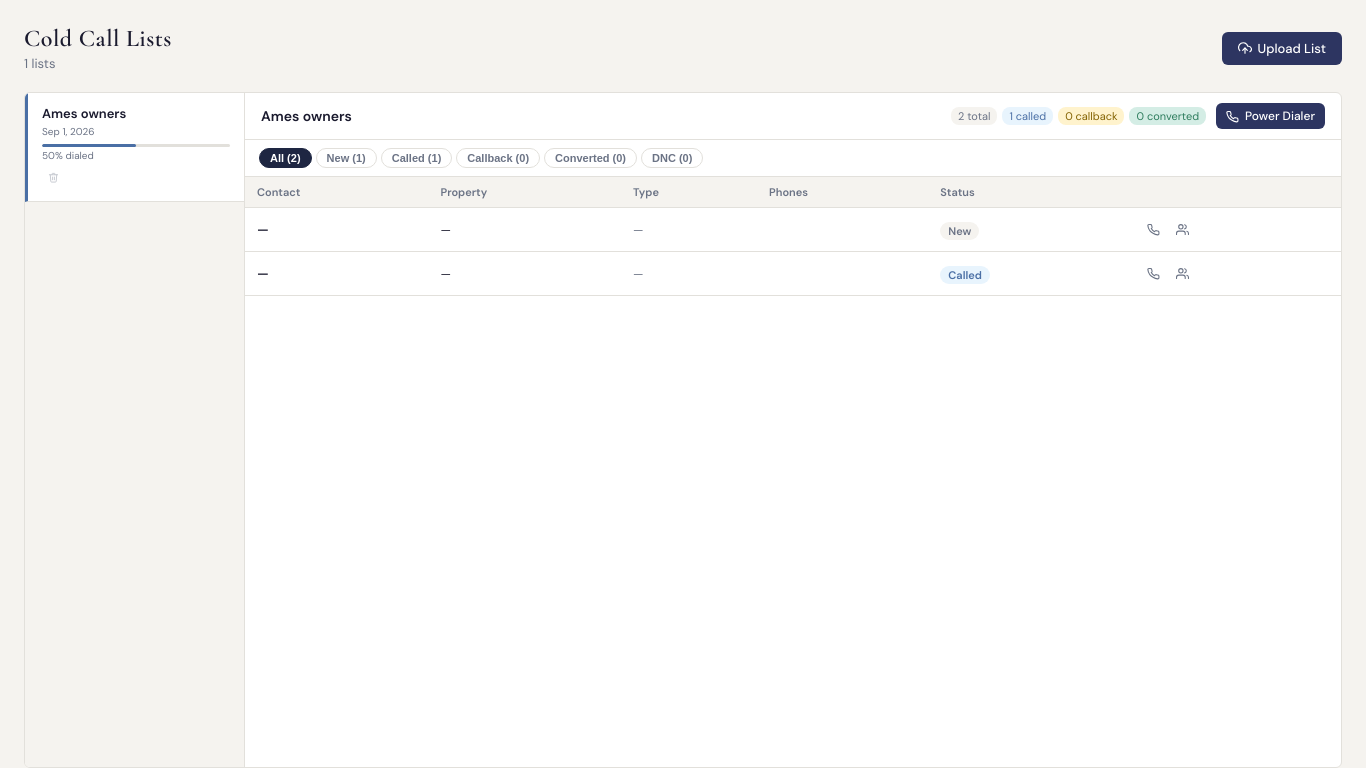
Scenario: Cold call list delete › asks first, naming the list and how many leads go with it
Click the button named "Delete list Ames owners": (54, 178) [42,166,65,189]
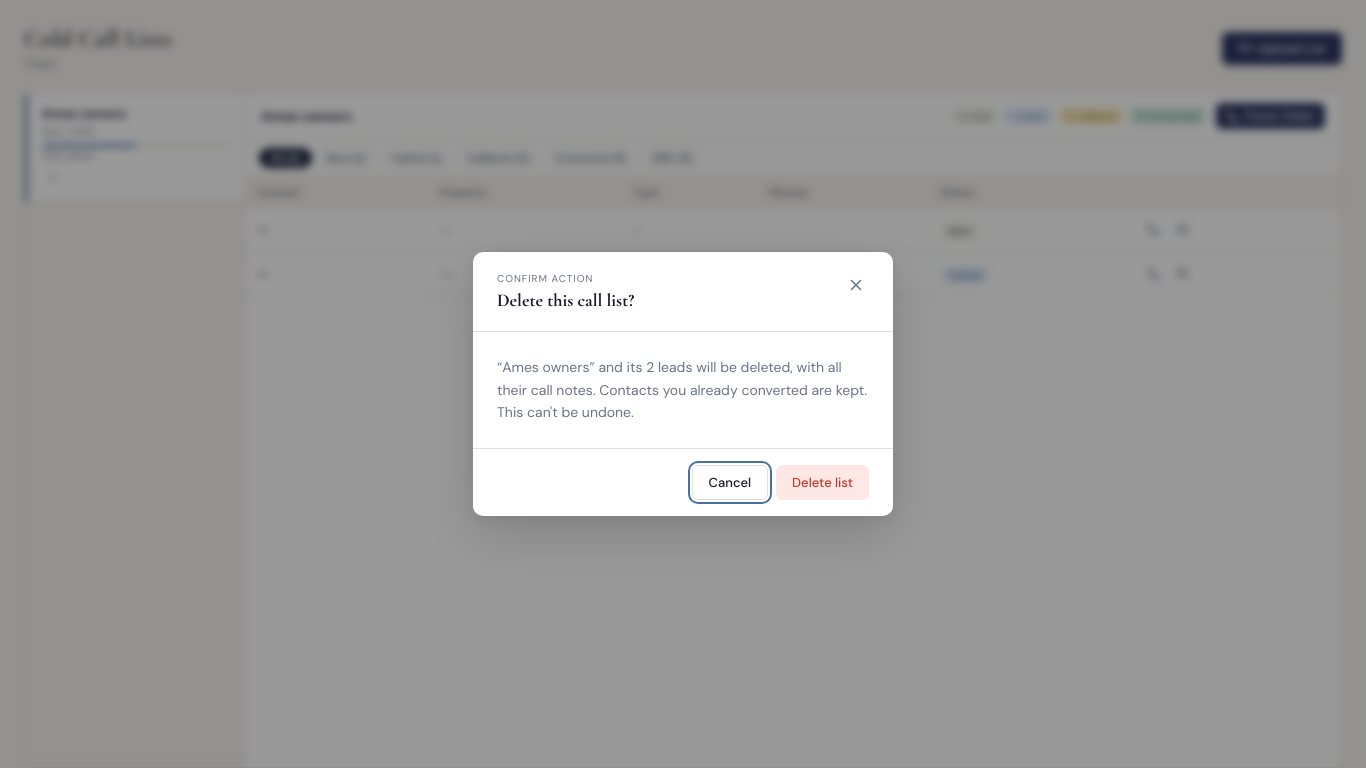
Expected: the dialog "Delete this call list?" shows "“Ames owners” and its 2 leads will be deleted", [497,358,867,421]
Click the button "Cancel": (730, 482) [692,465,768,500]
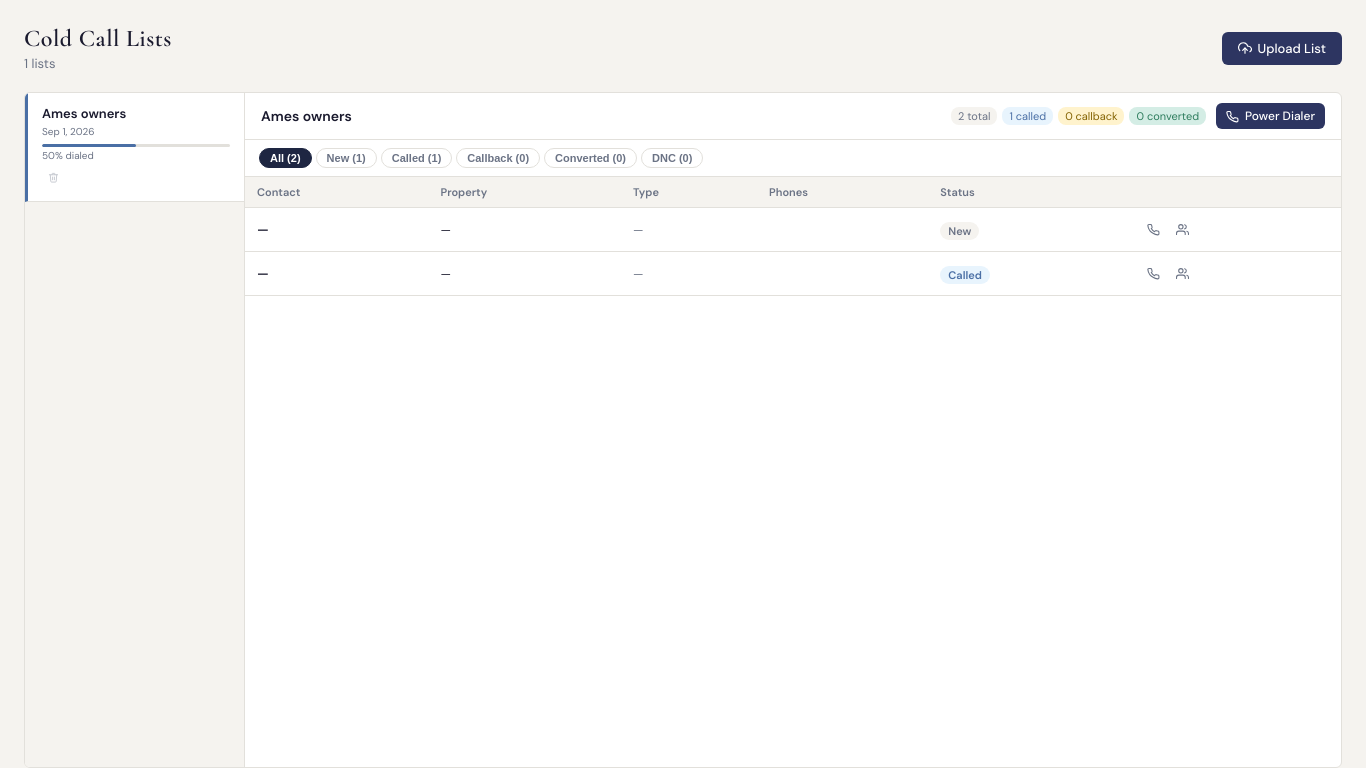
Expected: the dialog is gone
